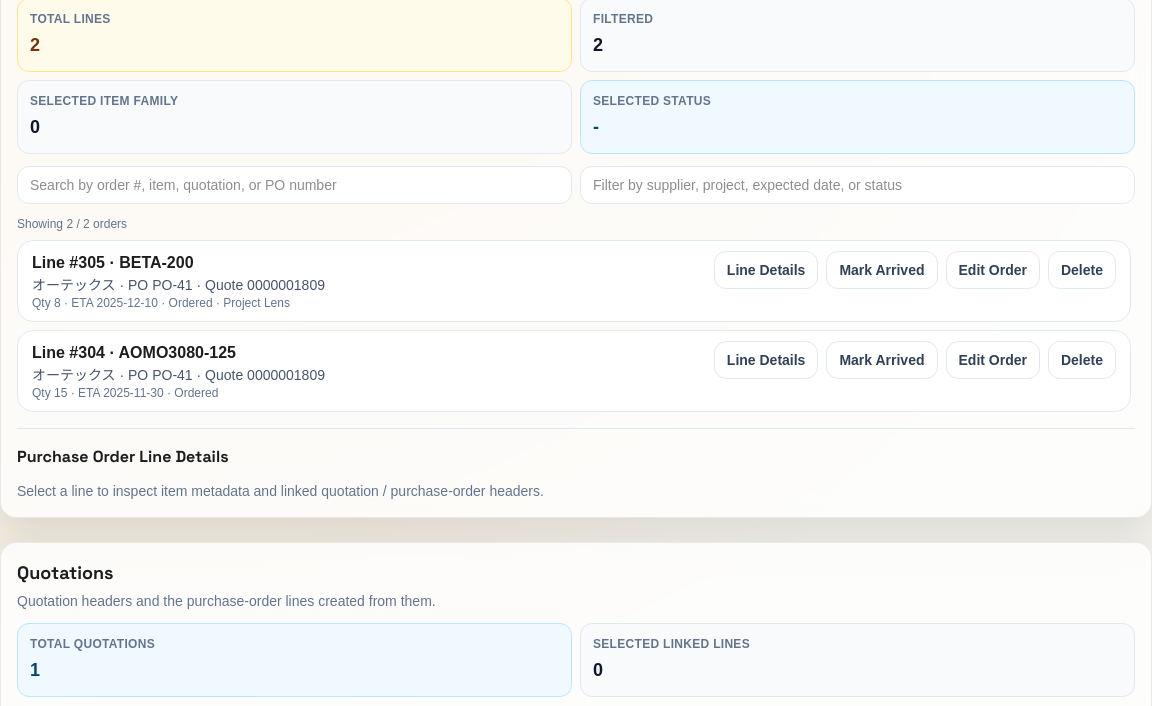
Scenario: OrdersPage › labels the edit-order fields so the date input is self-describing
(page scrolled)
Click the button "Edit Order" in the row of "AOMO3080-125".
click(993, 360)  # box [946,341,1040,379]
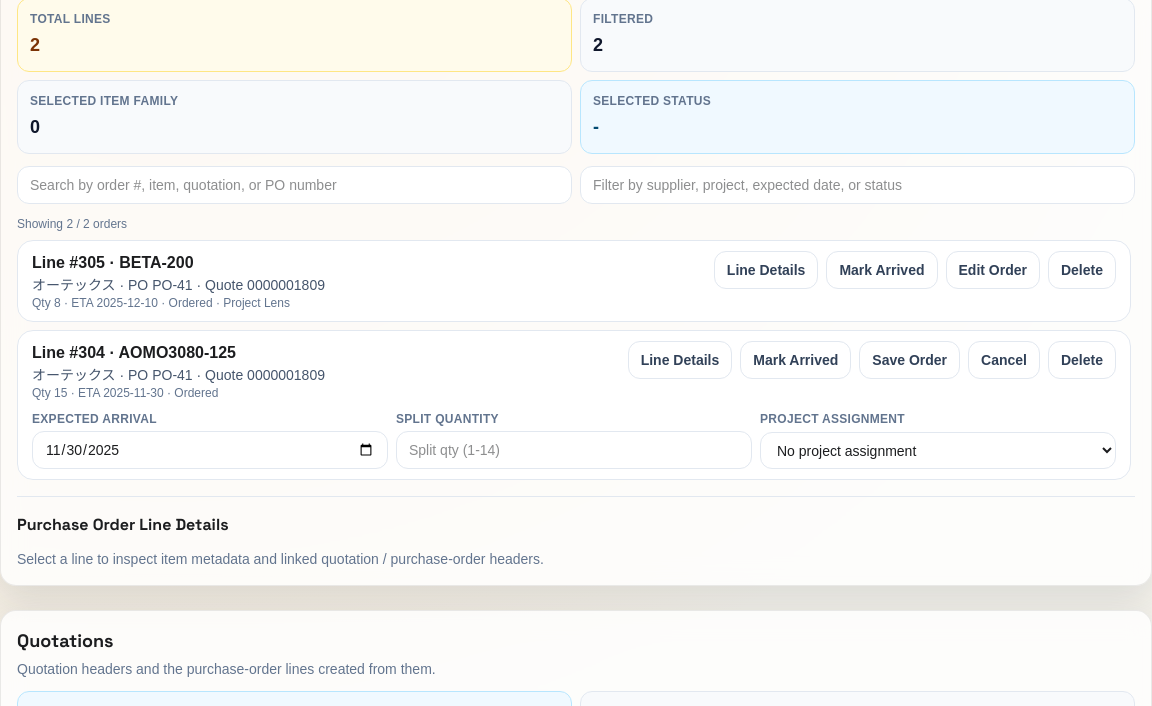
Check: the text "Expected Arrival" is shown, box [32,412,157,426]
Check: the date field named "Expected Arrival for line #304" is shown, box [32,431,388,469]
Check: the text "Split Quantity" is shown, box [396,412,499,426]
